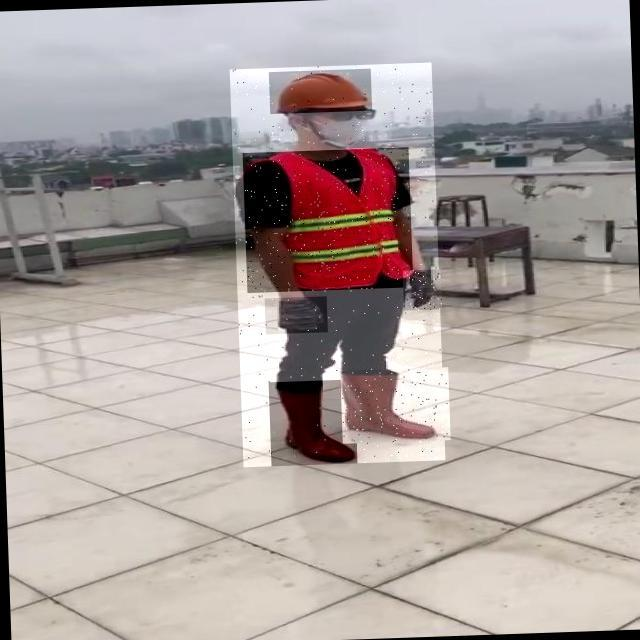Gloves: (265, 296, 328, 334), (403, 269, 442, 310)
Helmet: (269, 68, 372, 114)
Human: (229, 62, 445, 467)
Safety Boot: (340, 367, 450, 444), (269, 379, 358, 466)
Safety Vest: (243, 147, 414, 293)
